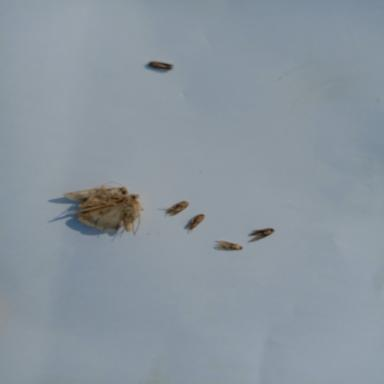abw: (58, 176, 128, 206), (87, 198, 145, 232)
pbw: (216, 238, 243, 254), (166, 198, 190, 215), (186, 213, 206, 231), (147, 60, 173, 72), (250, 228, 272, 240)
